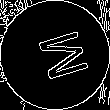M_W: (24, 26, 86, 84)
